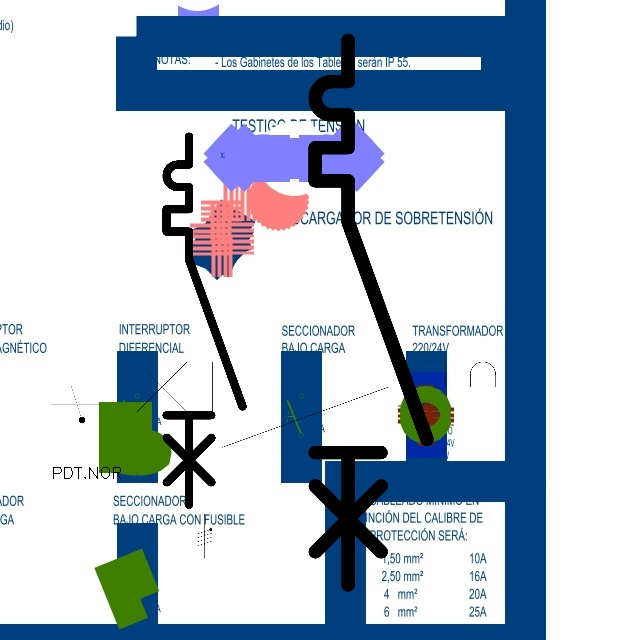interruptor_termomagnetico: (301, 26, 441, 599), (100, 351, 538, 458), (157, 127, 252, 514)
